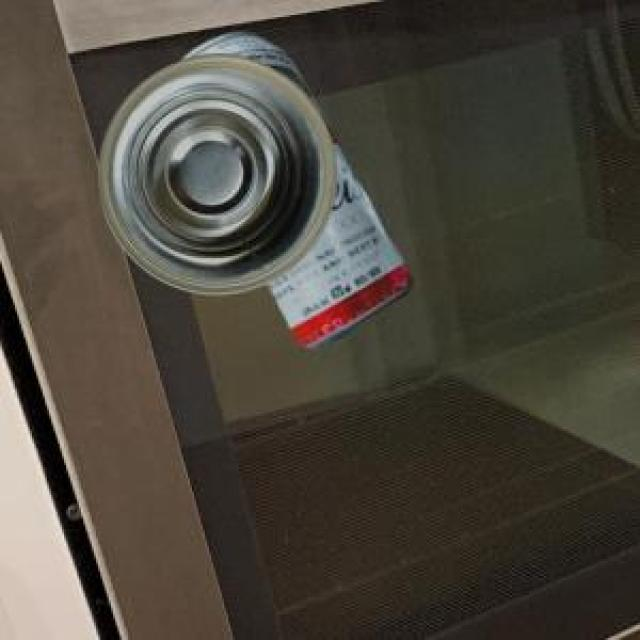Can: (180, 29, 411, 345), (97, 52, 334, 291)
